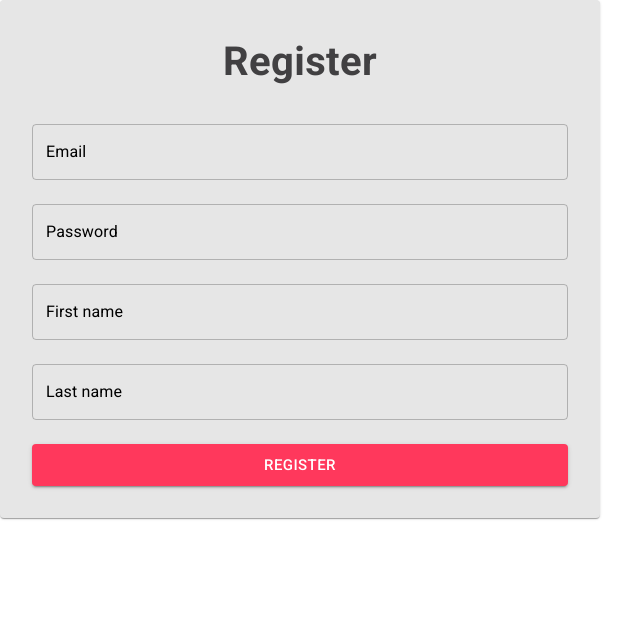
it: Register form › Does not send with empty values
This screenshot has width=618, height=629.
Step 1. Click the button with test id "register-btn" → (300, 465), box x1=32 y1=444 x2=568 y2=486
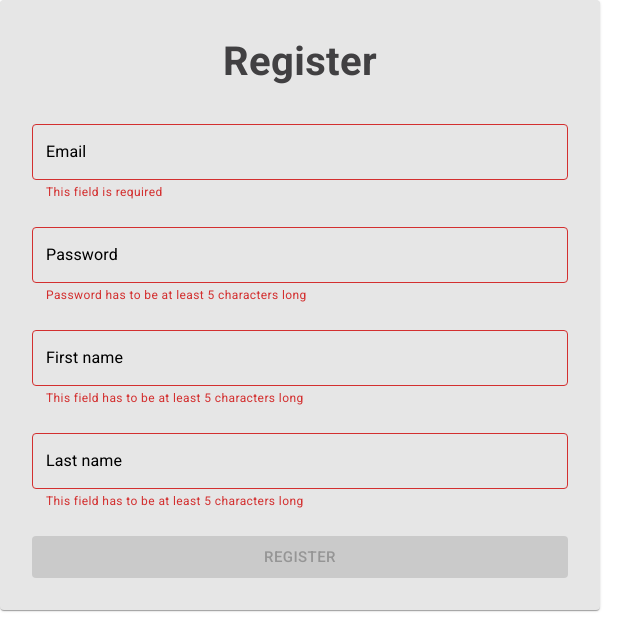
Now the text "Password has to be at least 5 characters long" is shown, box x1=46 y1=288 x2=307 y2=302
Now the text "This field is required" is shown, box x1=46 y1=185 x2=163 y2=199
Now the text "This field has to be at least 5 characters long" is shown 2 times, box x1=46 y1=391 x2=304 y2=405; x1=46 y1=494 x2=304 y2=508
